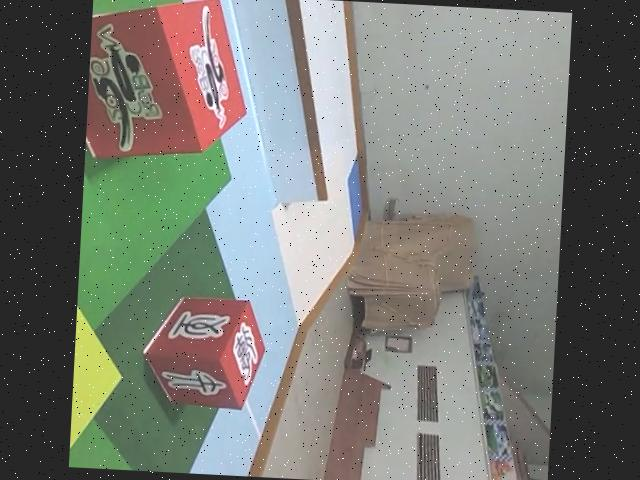R1: (84, 0, 255, 167)
R2 Fake: (138, 293, 270, 414)
